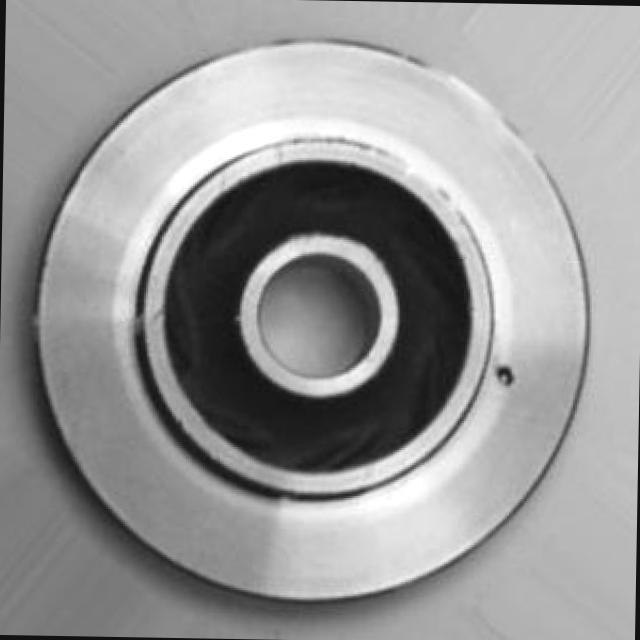Defect: (494, 359, 519, 394)
